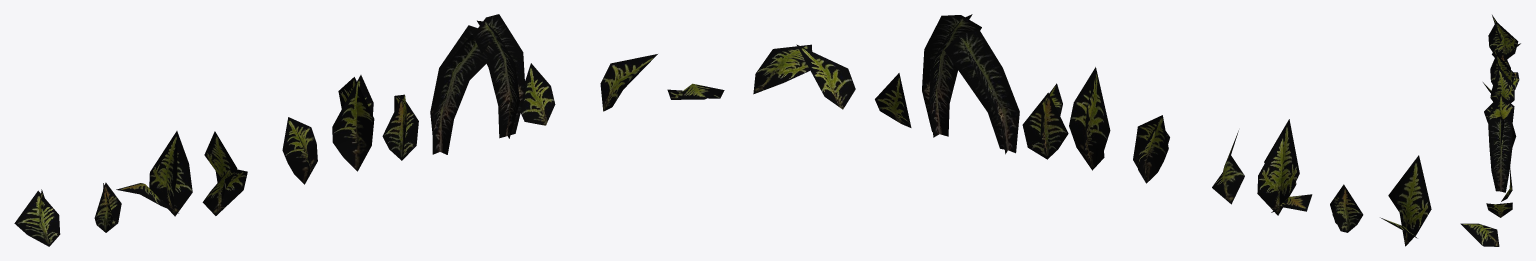
Rendered from moss_01.glb.
The picture shows the model from 3 angles, left to right: view 1: azimuth 30°, elevation 25°; view 2: azimuth 150°, elevation 25°; view 3: azimuth 270°, elevation 25°; orthographic projection. The views are drawn at different scales.
Visible parts, largest first — view 1: moss_01_tall_a_LOD0, moss_01_tall_b_LOD0, moss_01_f_LOD0, moss_01_c_LOD0, moss_01_d_LOD0, moss_01_e_LOD0, moss_01_a_LOD0, moss_01_g_LOD0, moss_01_h_LOD0, moss_01_i_LOD0, moss_01_b_LOD0, moss_01_j_LOD0; view 2: moss_01_tall_a_LOD0, moss_01_tall_b_LOD0, moss_01_c_LOD0, moss_01_f_LOD0, moss_01_a_LOD0, moss_01_g_LOD0, moss_01_i_LOD0, moss_01_e_LOD0, moss_01_j_LOD0, moss_01_h_LOD0, moss_01_b_LOD0, moss_01_d_LOD0; view 3: moss_01_tall_b_LOD0, moss_01_a_LOD0, moss_01_j_LOD0, moss_01_d_LOD0, moss_01_f_LOD0, moss_01_c_LOD0, moss_01_i_LOD0, moss_01_e_LOD0, moss_01_h_LOD0, moss_01_tall_a_LOD0, moss_01_b_LOD0.
Boxes of the visible parts, <box> form: moss_01_tall_a_LOD0: <box>430,25,498,154</box>; moss_01_tall_b_LOD0: <box>472,14,525,138</box>; moss_01_f_LOD0: <box>332,75,374,171</box>; moss_01_c_LOD0: <box>116,131,192,216</box>; moss_01_d_LOD0: <box>202,131,247,215</box>; moss_01_e_LOD0: <box>282,117,317,184</box>; moss_01_a_LOD0: <box>14,189,60,246</box>; moss_01_g_LOD0: <box>382,94,418,160</box>; moss_01_h_LOD0: <box>520,63,555,125</box>; moss_01_i_LOD0: <box>600,54,657,111</box>; moss_01_b_LOD0: <box>94,182,121,232</box>; moss_01_j_LOD0: <box>667,83,724,99</box>; moss_01_tall_a_LOD0: <box>944,30,1019,154</box>; moss_01_tall_b_LOD0: <box>922,14,981,137</box>; moss_01_c_LOD0: <box>1257,119,1312,215</box>; moss_01_f_LOD0: <box>1069,67,1110,170</box>; moss_01_a_LOD0: <box>1380,155,1431,246</box>; moss_01_g_LOD0: <box>1022,83,1068,159</box>; moss_01_i_LOD0: <box>796,44,855,109</box>; moss_01_e_LOD0: <box>1133,115,1169,183</box>; moss_01_j_LOD0: <box>753,44,812,94</box>; moss_01_h_LOD0: <box>875,73,911,127</box>; moss_01_b_LOD0: <box>1330,184,1363,232</box>; moss_01_d_LOD0: <box>1212,130,1244,204</box>; moss_01_tall_b_LOD0: <box>1488,116,1512,192</box>; moss_01_a_LOD0: <box>1488,15,1520,59</box>; moss_01_j_LOD0: <box>1460,223,1499,246</box>; moss_01_d_LOD0: <box>1483,66,1514,102</box>; moss_01_f_LOD0: <box>1487,94,1514,122</box>; moss_01_c_LOD0: <box>1490,47,1519,89</box>; moss_01_i_LOD0: <box>1486,202,1512,217</box>; moss_01_e_LOD0: <box>1484,91,1500,122</box>; moss_01_h_LOD0: <box>1501,167,1512,201</box>; moss_01_tall_a_LOD0: <box>1511,121,1516,147</box>; moss_01_b_LOD0: <box>1500,53,1510,68</box>.
Size of the model in its own units: 0.2153 by 0.0404 by 0.0294.
Materials: 1 (1 with a texture image).
